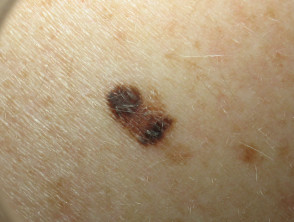melanoma: (69, 65, 200, 167)
